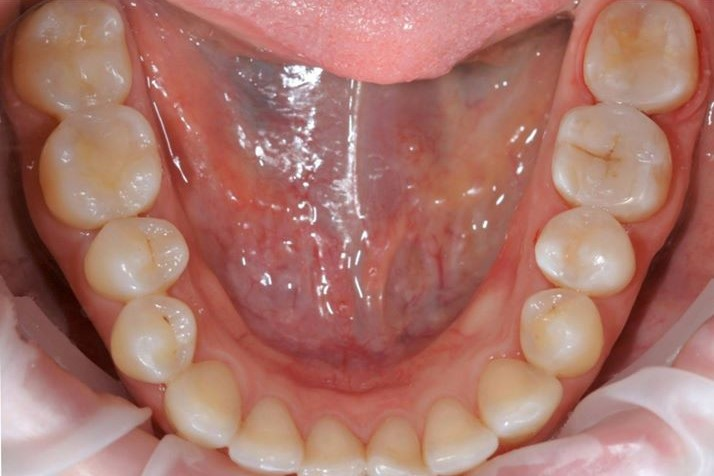LL1BC_healthy: (518, 289, 607, 372)
LL2BC_healthy: (533, 207, 637, 292)
LLCI_healthy: (363, 414, 423, 476)
LLC_healthy: (476, 352, 564, 440)
LLLI_healthy: (421, 395, 496, 472)
LR1BC_decay: (108, 294, 200, 381)
LR1M_decay: (551, 101, 679, 219)
LR1M_healthy: (42, 105, 160, 226)
LR2BC_decay: (82, 211, 192, 296)
LR2M_healthy: (579, 4, 702, 120), (15, 3, 135, 110)
LRCI_healthy: (303, 419, 368, 476)
LRC_healthy: (158, 357, 244, 450)
LRLI_healthy: (229, 395, 304, 471)
